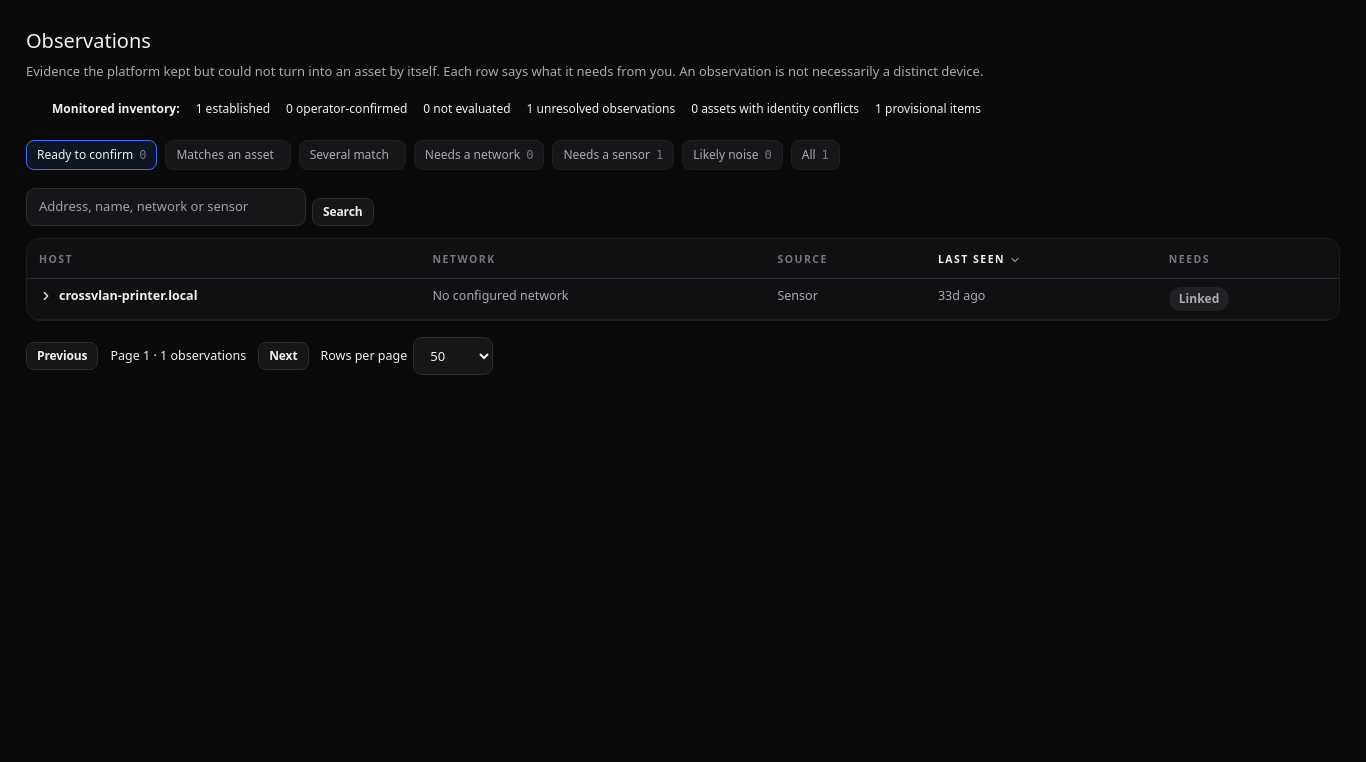
Scenario: keeps the settled wording for an observation whose identity IS settled
Click the button "crossvlan-printer.local" at (118, 296), box [39,287,198,306]
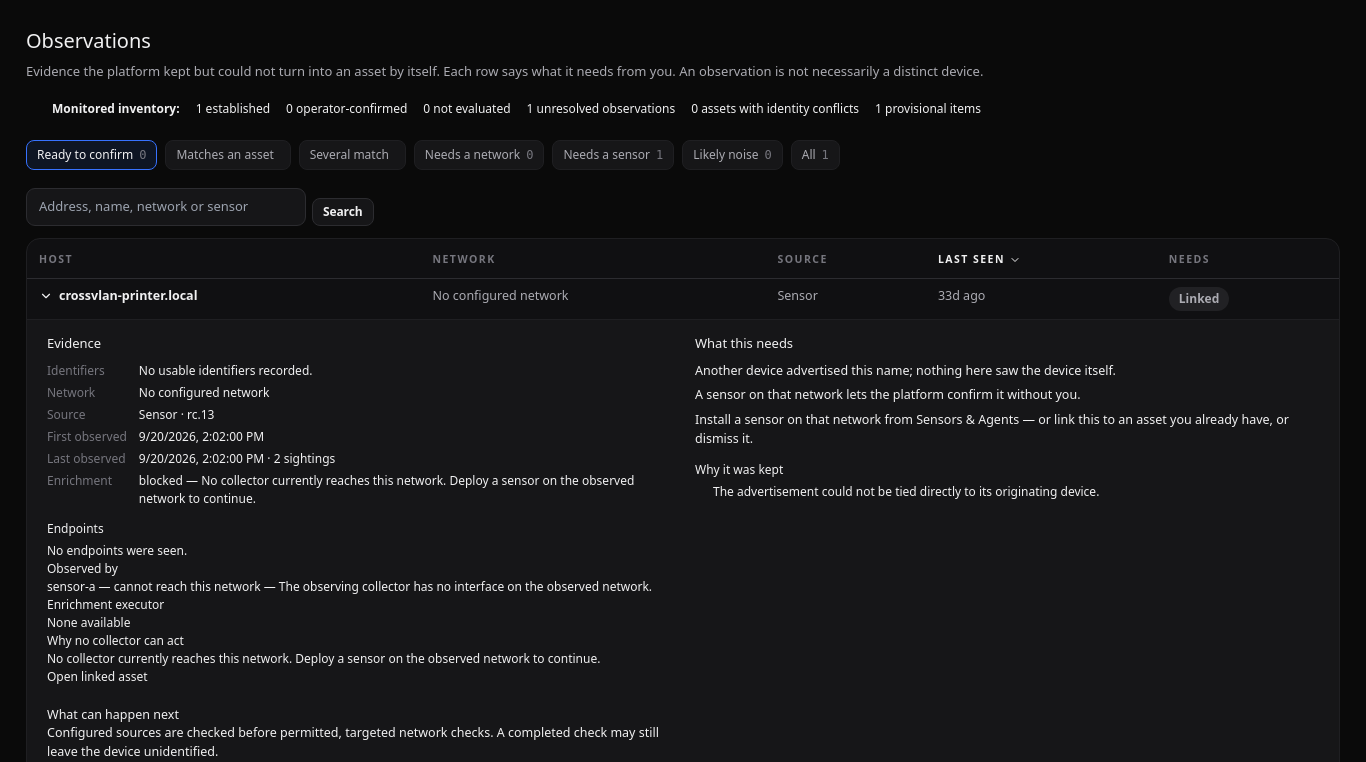
Result: the text "Open linked asset" is shown at [47,668,148,684]
